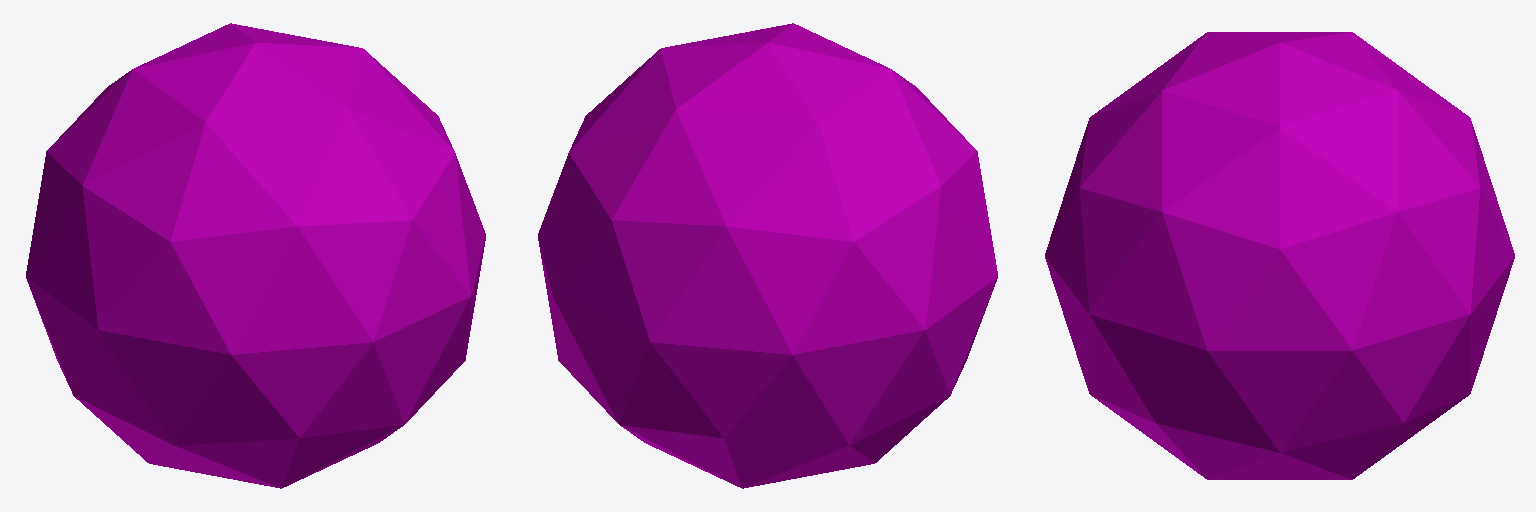
The model's file is ball.obj.
The picture shows the model from 3 angles: view 1: azimuth 30°, elevation 25°; view 2: azimuth 150°, elevation 25°; view 3: azimuth 270°, elevation 25°; orthographic projection.
Bounding box in the file's own units: 0.4755 × 0.5 × 0.5.